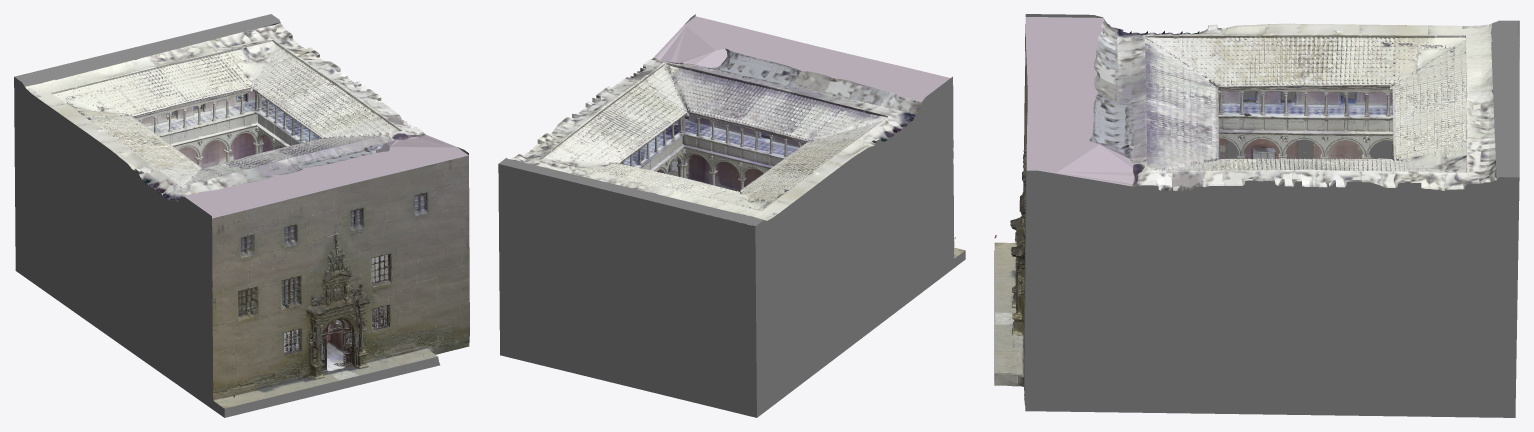
3 renders of one model, left to right at view 1: azimuth 30°, elevation 25°; view 2: azimuth 150°, elevation 25°; view 3: azimuth 270°, elevation 25°, orthographic. The views are drawn at different scales.
Visible parts, largest first — view 1: Object_48, Object_2, Object_6, Object_50, Object_40, Object_7, Object_32, Object_26, Object_11, Object_14, Object_5, Object_29 (+29 smaller); view 2: Object_48, Object_50, Object_2, Object_44, Object_45, Object_25, Object_36, Object_16, Object_11, Object_41, Object_14, Object_6 (+18 smaller); view 3: Object_48, Object_50, Object_2, Object_45, Object_44, Object_28, Object_18, Object_43, Object_12, Object_11, Object_14, Object_8 (+24 smaller).
Part boxes in pixels (x1=…): Object_48: x1=14, y1=14, x2=469, y2=417; Object_2: x1=25, y1=23, x2=469, y2=408; Object_6: x1=242, y1=107, x2=437, y2=341; Object_50: x1=182, y1=135, x2=468, y2=218; Object_40: x1=212, y1=141, x2=335, y2=290; Object_7: x1=293, y1=213, x2=387, y2=331; Object_32: x1=215, y1=138, x2=302, y2=406; Object_26: x1=327, y1=255, x2=438, y2=378; Object_11: x1=226, y1=46, x2=402, y2=370; Object_14: x1=170, y1=133, x2=466, y2=237; Object_5: x1=214, y1=107, x2=312, y2=299; Object_29: x1=215, y1=63, x2=467, y2=405; Object_48: x1=498, y1=14, x2=965, y2=417; Object_50: x1=654, y1=16, x2=950, y2=102; Object_2: x1=510, y1=48, x2=964, y2=258; Object_44: x1=754, y1=85, x2=912, y2=149; Object_45: x1=720, y1=79, x2=849, y2=161; Object_25: x1=607, y1=87, x2=713, y2=194; Object_36: x1=703, y1=103, x2=763, y2=187; Object_16: x1=657, y1=63, x2=741, y2=137; Object_11: x1=531, y1=129, x2=623, y2=171; Object_41: x1=583, y1=91, x2=667, y2=159; Object_14: x1=655, y1=59, x2=878, y2=143; Object_6: x1=622, y1=50, x2=800, y2=163; Object_48: x1=994, y1=14, x2=1519, y2=417; Object_50: x1=1025, y1=17, x2=1134, y2=186; Object_2: x1=994, y1=18, x2=1496, y2=408; Object_45: x1=1116, y1=44, x2=1292, y2=140; Object_44: x1=1116, y1=26, x2=1357, y2=158; Object_28: x1=1205, y1=40, x2=1418, y2=184; Object_18: x1=1222, y1=38, x2=1442, y2=123; Object_43: x1=1319, y1=45, x2=1494, y2=157; Object_12: x1=997, y1=109, x2=1288, y2=348; Object_11: x1=995, y1=145, x2=1447, y2=351; Object_14: x1=1025, y1=47, x2=1227, y2=261; Object_8: x1=1024, y1=137, x2=1495, y2=188.
Size of the model in its own units: 28.15 by 20.74 by 39.9.
3 materials, 1 textured.
